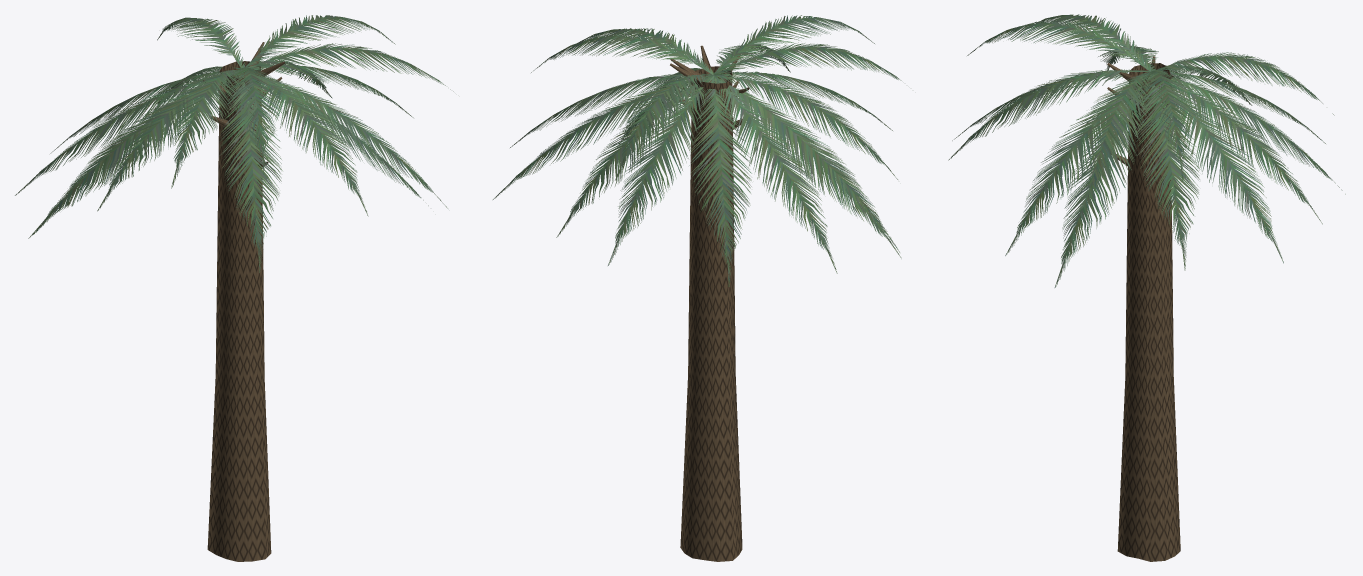
Rendered from SylvesterPalm_LOD0.fbx.
The picture shows the model from 3 angles, left to right: view 1: azimuth 30°, elevation 25°; view 2: azimuth 150°, elevation 25°; view 3: azimuth 270°, elevation 25°; orthographic projection.
Parts seen in each view (by area): view 1: SylvesterPalm_LOD0; view 2: SylvesterPalm_LOD0; view 3: SylvesterPalm_LOD0.
Boxes of the visible parts, x1,y1,x2,y2 form: SylvesterPalm_LOD0: [15, 15, 453, 561]; SylvesterPalm_LOD0: [493, 15, 901, 561]; SylvesterPalm_LOD0: [948, 14, 1345, 561].
Size of the model in its own units: 7.88 by 9.77 by 7.02.
Materials: 1 (1 with a texture image).
